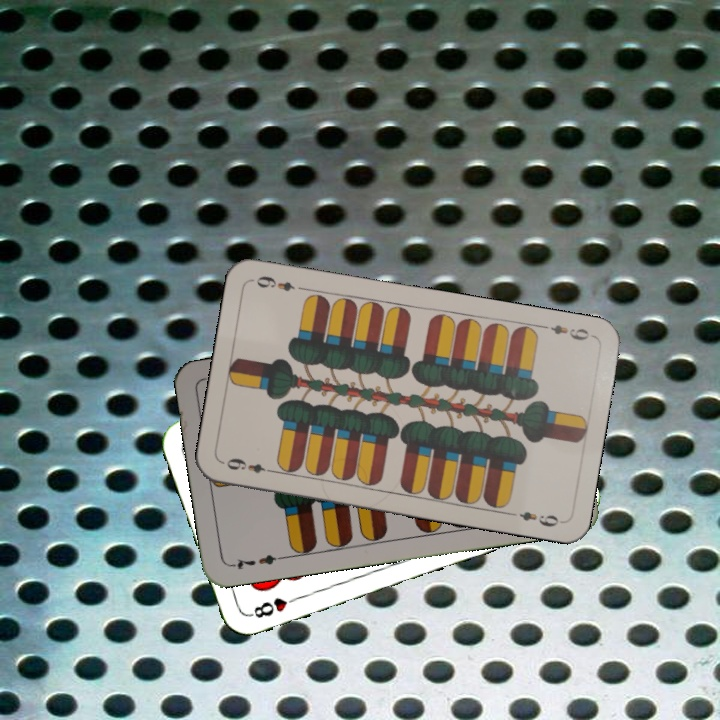E7: (227, 551, 286, 572)
E9: (537, 320, 595, 344), (219, 454, 278, 476)
H8: (246, 592, 303, 621)
